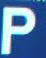Parking: (1, 2, 41, 56)
